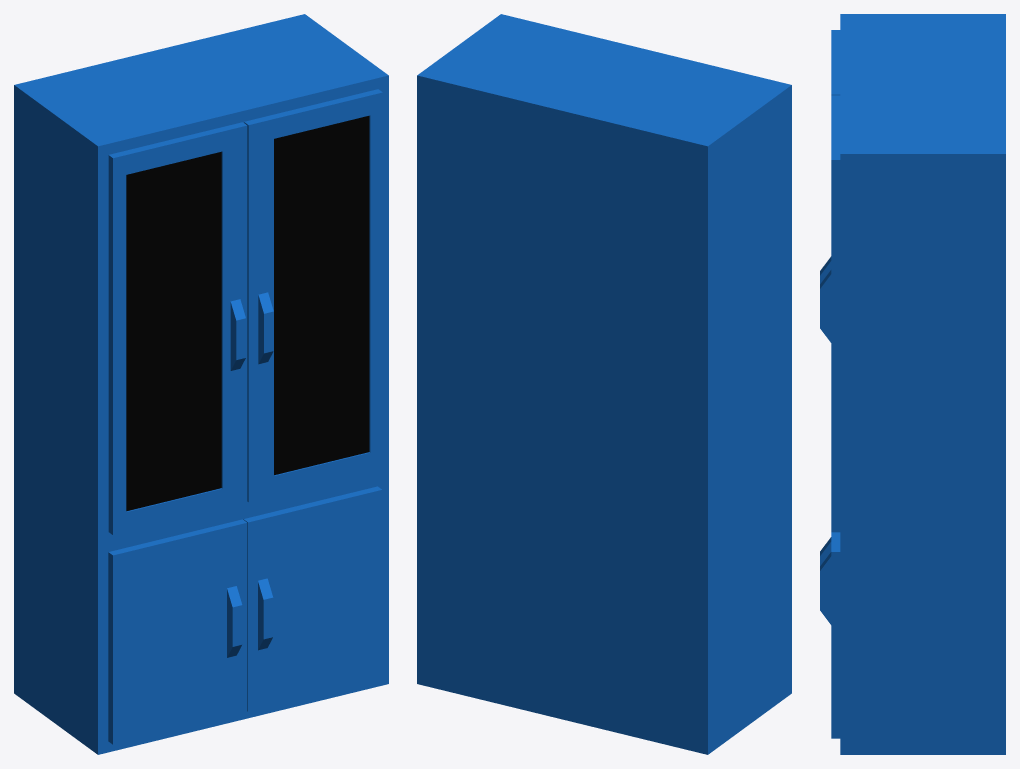
Rendered from SM_cabinet_2.fbx.
3 views of the same model, side by side, from view 1: azimuth 30°, elevation 25°; view 2: azimuth 150°, elevation 25°; view 3: azimuth 270°, elevation 25° (orthographic).
Visible parts, largest first — view 1: Cloner_1, Cube_16, Cube_15, Cube_16_2, Cube_16_3; view 2: Cloner_1; view 3: Cloner_1, Cube_15, Cube_16_3, Cube_16.
Part boxes in pixels (bbox=[...]): Cloner_1: bbox=[14, 14, 388, 754]; Cube_16: bbox=[108, 122, 247, 535]; Cube_15: bbox=[244, 89, 382, 502]; Cube_16_2: bbox=[108, 519, 247, 744]; Cube_16_3: bbox=[243, 486, 382, 711]; Cloner_1: bbox=[417, 14, 791, 754]; Cloner_1: bbox=[840, 14, 1005, 754]; Cube_15: bbox=[820, 95, 840, 532]; Cube_16_3: bbox=[820, 532, 840, 738]; Cube_16: bbox=[820, 30, 840, 283].
Bounding box in the file's own units: 100 × 200 × 56.1.
